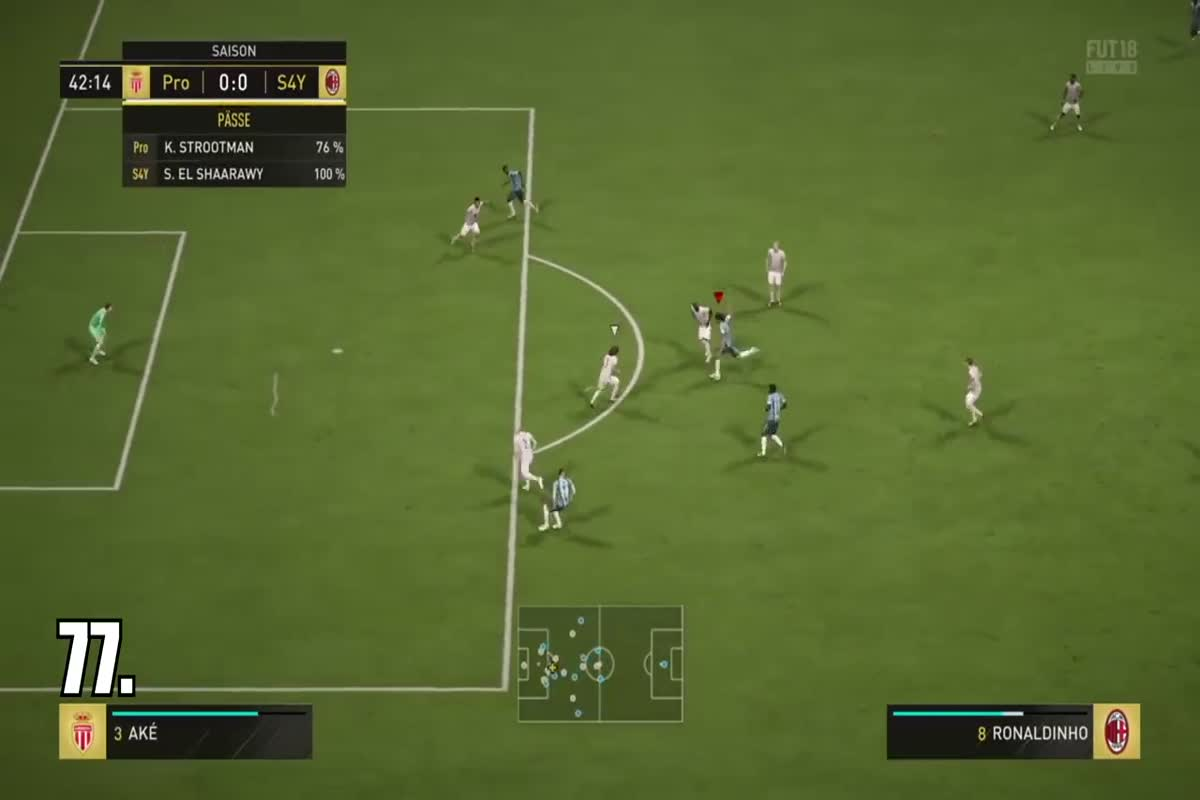ball: (701, 367, 726, 389)
